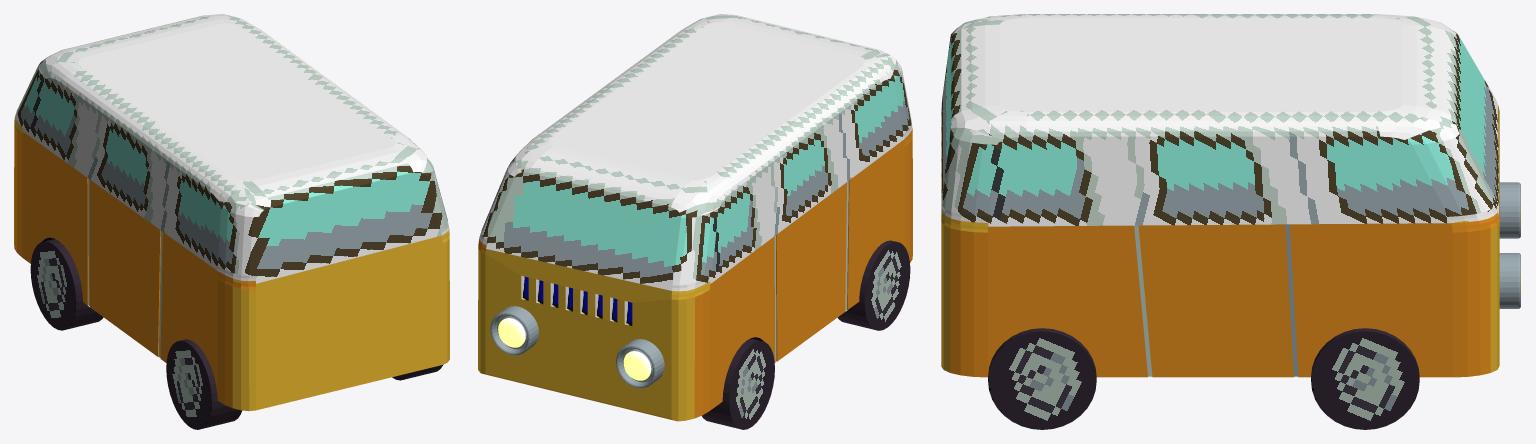
Rendered from bus.glb.
3 views of the same model, side by side, from view 1: azimuth 30°, elevation 25°; view 2: azimuth 150°, elevation 25°; view 3: azimuth 270°, elevation 25° (orthographic). The views are drawn at different scales.
Parts seen in each view (by area): view 1: 立方体, wheel, wheel.001; view 2: 立方体, wheel, wheel.001, 柱体.002; view 3: 立方体, wheel.002, wheel.003, 柱体.002.
Boxes of the visible parts, bbox=[...] form: 立方体: bbox=[14, 14, 449, 411]; wheel: bbox=[30, 239, 103, 330]; wheel.001: bbox=[166, 339, 241, 429]; 立方体: bbox=[478, 14, 912, 421]; wheel: bbox=[702, 338, 774, 429]; wheel.001: bbox=[837, 240, 910, 330]; 柱体.002: bbox=[490, 306, 664, 388]; 立方体: bbox=[941, 14, 1499, 377]; wheel.002: bbox=[1311, 328, 1419, 429]; wheel.003: bbox=[988, 328, 1096, 429]; 柱体.002: bbox=[1499, 182, 1521, 308].
Size of the model in its own units: 1.19 by 1.2 by 2.13.
Materials: 5 (3 with a texture image).
